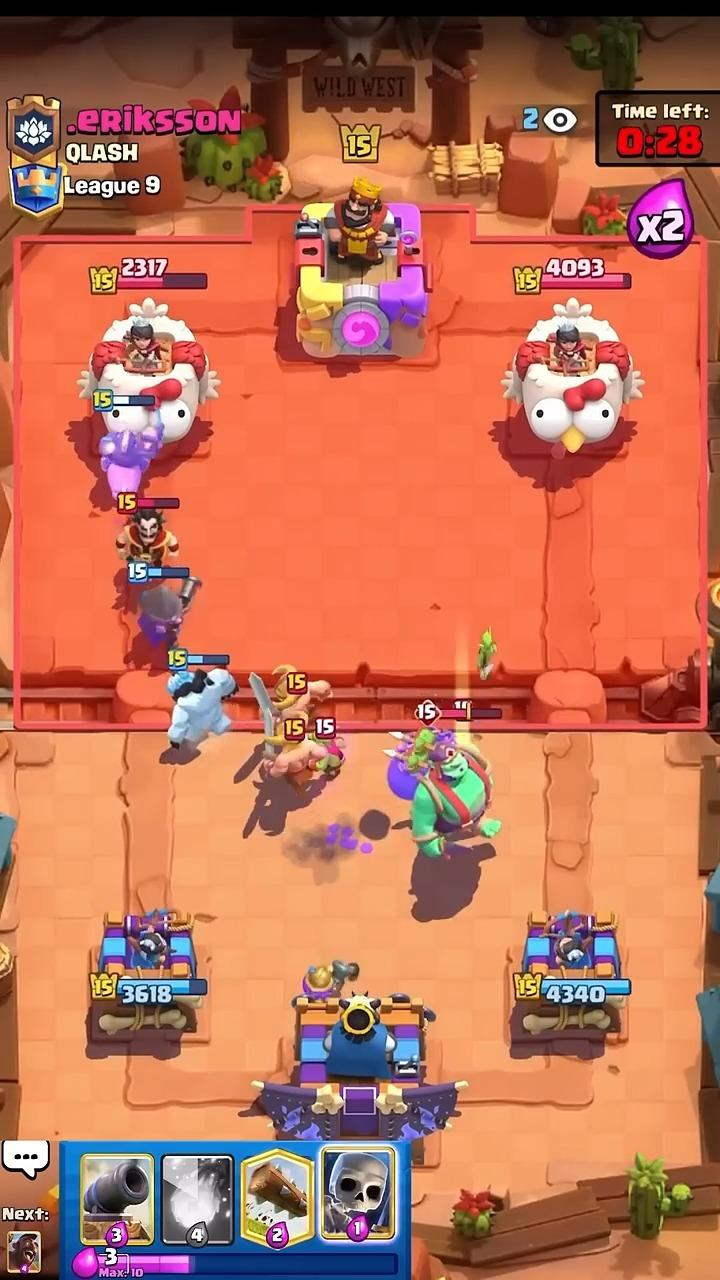electro wizard: (116, 506, 178, 566)
elite barbarians: (253, 668, 332, 791)
goblin: (310, 739, 344, 780), (477, 629, 496, 680)
goblin giant: (385, 729, 501, 857)
hog rider: (101, 418, 162, 503)
ice golem: (167, 669, 236, 753)
musketeer: (139, 577, 201, 650), (304, 960, 359, 999)
